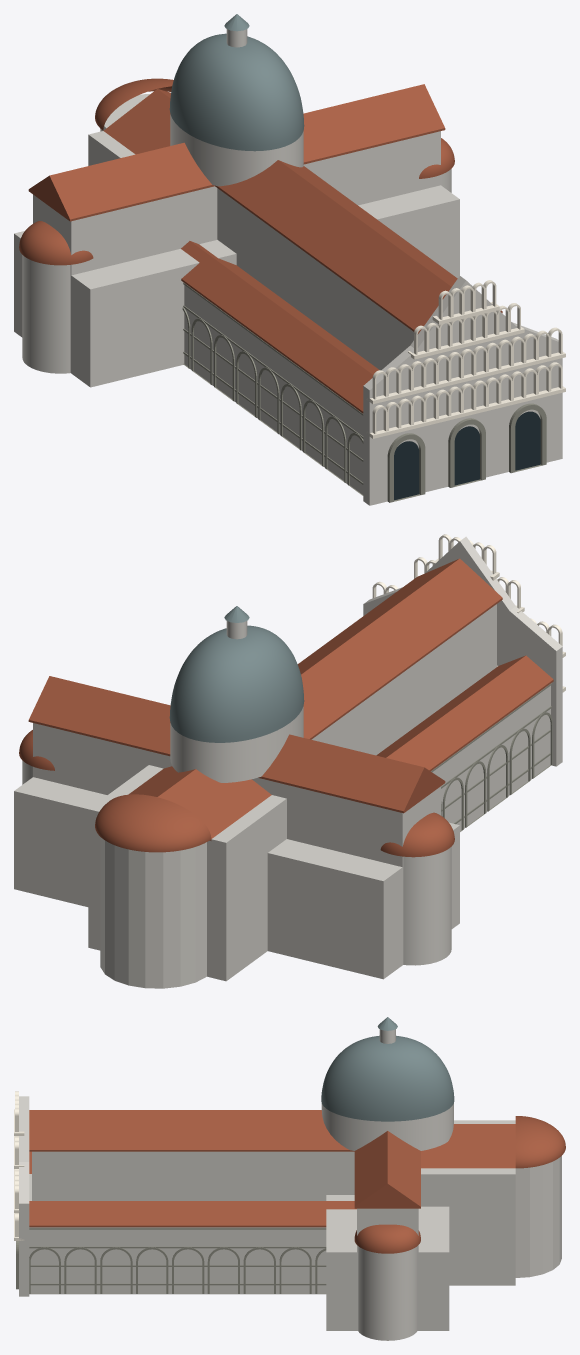
Rendered from pisa-cathedral.glb.
The picture shows the model from 3 angles, top to bottom: view 1: azimuth 30°, elevation 25°; view 2: azimuth 150°, elevation 25°; view 3: azimuth 270°, elevation 25°; orthographic projection. The views are drawn at different scales.
Parts seen in each view (by area): view 1: three-aisle-transept, rainaldo-facade, nave-roof, transept-roof, high-transept, elliptical-crossing-dome, five-aisle-body, high-nave, aisle-roof, open-facade-loggia, transept-apse, door-recess (+9 smaller); view 2: three-aisle-transept, nave-roof, transept-roof, eastern-apse, high-transept, choir, elliptical-crossing-dome, high-nave, aisle-roof, five-aisle-body, rainaldo-facade, transept-apse (+7 smaller); view 3: five-aisle-body, high-nave, nave-roof, choir, elliptical-crossing-dome, aisle-roof, three-aisle-transept, transept-apse, eastern-apse, transept-roof, choir-roof, elliptical-drum (+7 smaller).
Part boxes in pixels (x1,y1,x2,y2): three-aisle-transept: (14,185,459,387); rainaldo-facade: (363,276,562,505); nave-roof: (215,160,502,333); transept-roof: (28,84,445,221); high-transept: (33,131,440,275); elliptical-crossing-dome: (169,33,304,151); five-aisle-body: (184,285,363,494); high-nave: (217,188,417,370); aisle-roof: (181,241,379,413); open-facade-loggia: (372,280,562,434); transept-apse: (22,169,451,373); door-recess: (394,411,540,500); three-aisle-transept: (14,777,459,979); nave-roof: (297,558,502,739); transept-roof: (28,676,445,813); eastern-apse: (100,837,206,988); high-transept: (33,723,440,866); choir: (88,765,286,981); elliptical-crossing-dome: (169,625,304,742); high-nave: (311,604,496,755); aisle-roof: (376,655,553,771); five-aisle-body: (432,665,550,830); rainaldo-facade: (363,536,562,766); transept-apse: (22,760,451,965); five-aisle-body: (29,1174,326,1294); high-nave: (32,1151,354,1200); nave-roof: (29,1110,354,1151); choir: (421,1120,515,1285); elliptical-crossing-dome: (321,1035,454,1121); aisle-roof: (29,1151,356,1227); three-aisle-transept: (326,1195,449,1330); transept-apse: (358,1246,417,1340); eastern-apse: (515,1156,561,1277); transept-roof: (354,1131,420,1208); choir-roof: (421,1124,515,1168); elliptical-drum: (321,1103,453,1150).
Bounding box in the file's own units: 11.43 × 7.72 × 16.
